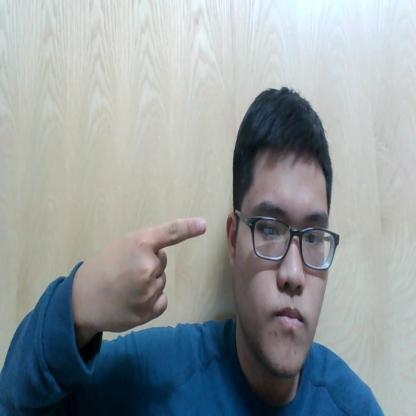left: (85, 211, 209, 336)
